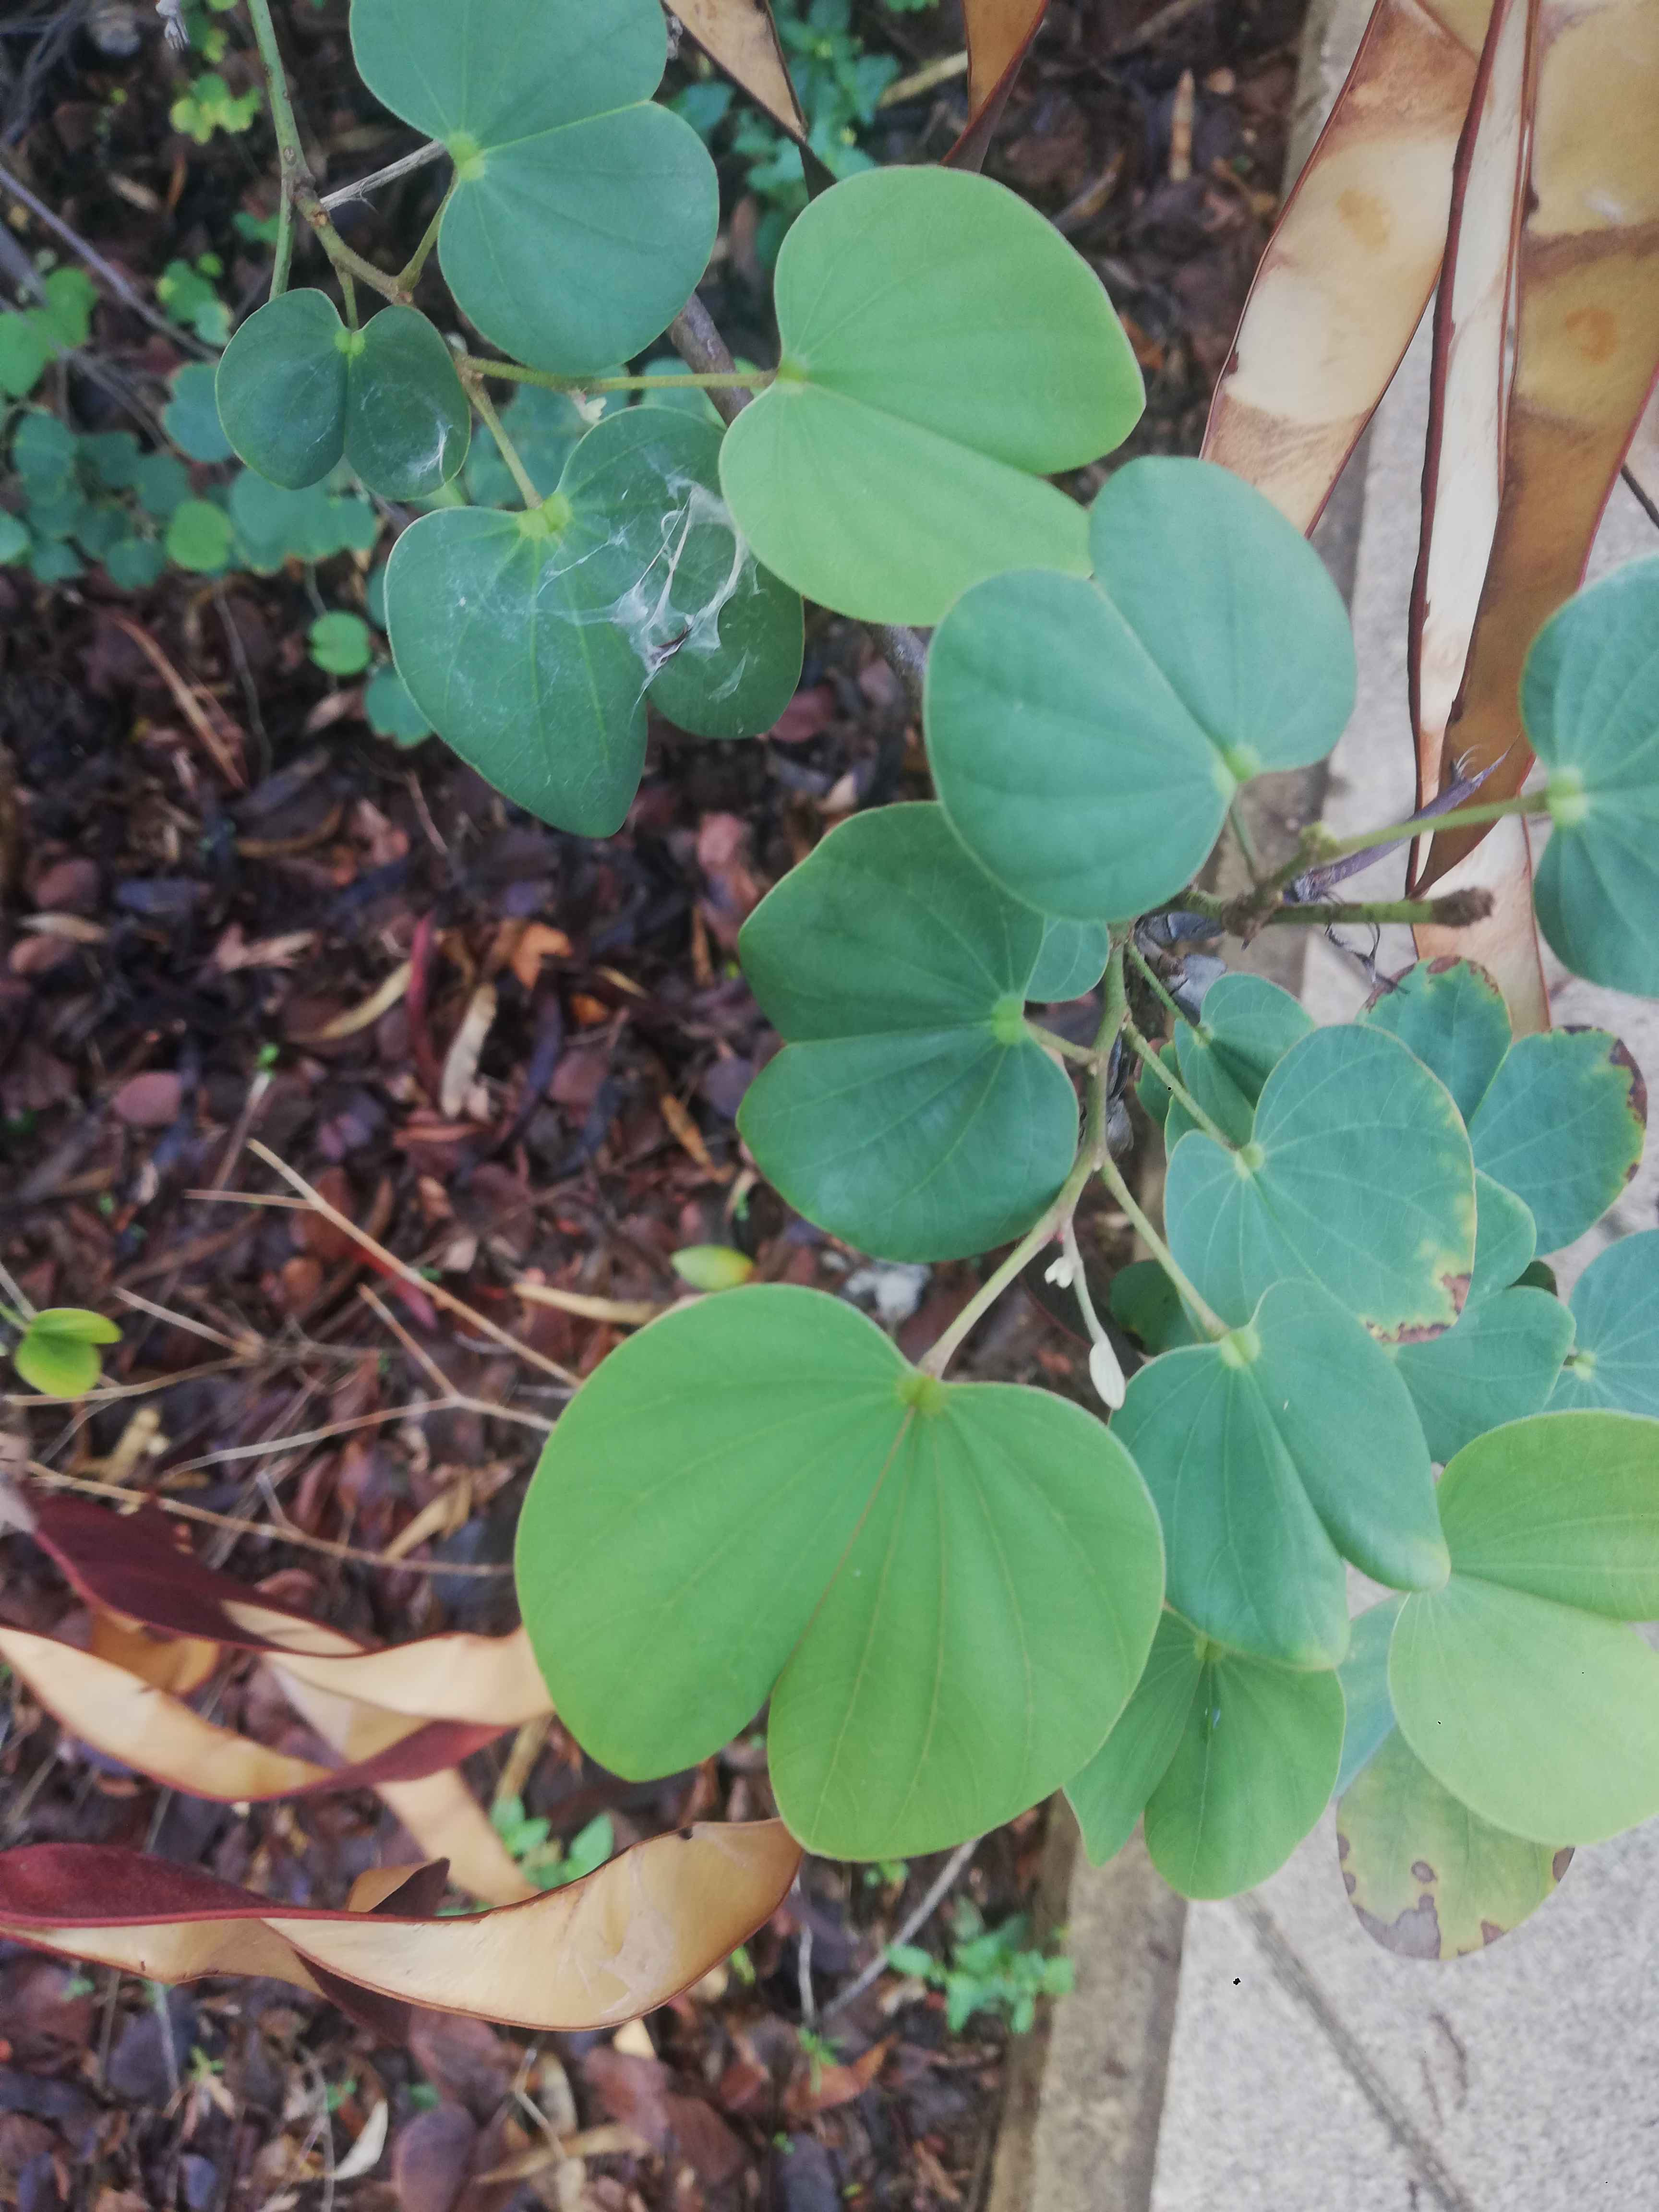healthy: (509, 1193, 1222, 1930), (718, 129, 1272, 648), (870, 489, 1438, 907), (279, 2, 762, 418), (1070, 1263, 1439, 1684), (1408, 1404, 1659, 1838)
nothealthy: (1143, 986, 1525, 1367)
